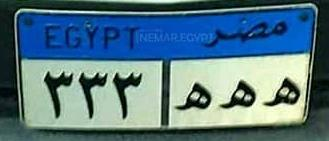3: (112, 71, 149, 121), (79, 72, 109, 120), (45, 70, 72, 117)
haa: (221, 73, 261, 112), (265, 72, 302, 109), (178, 82, 215, 112)
